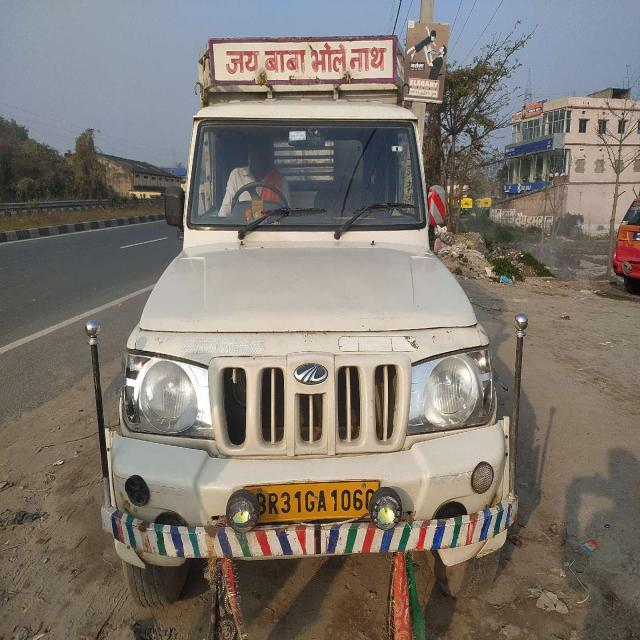light_vehicle: (118, 94, 508, 556)
